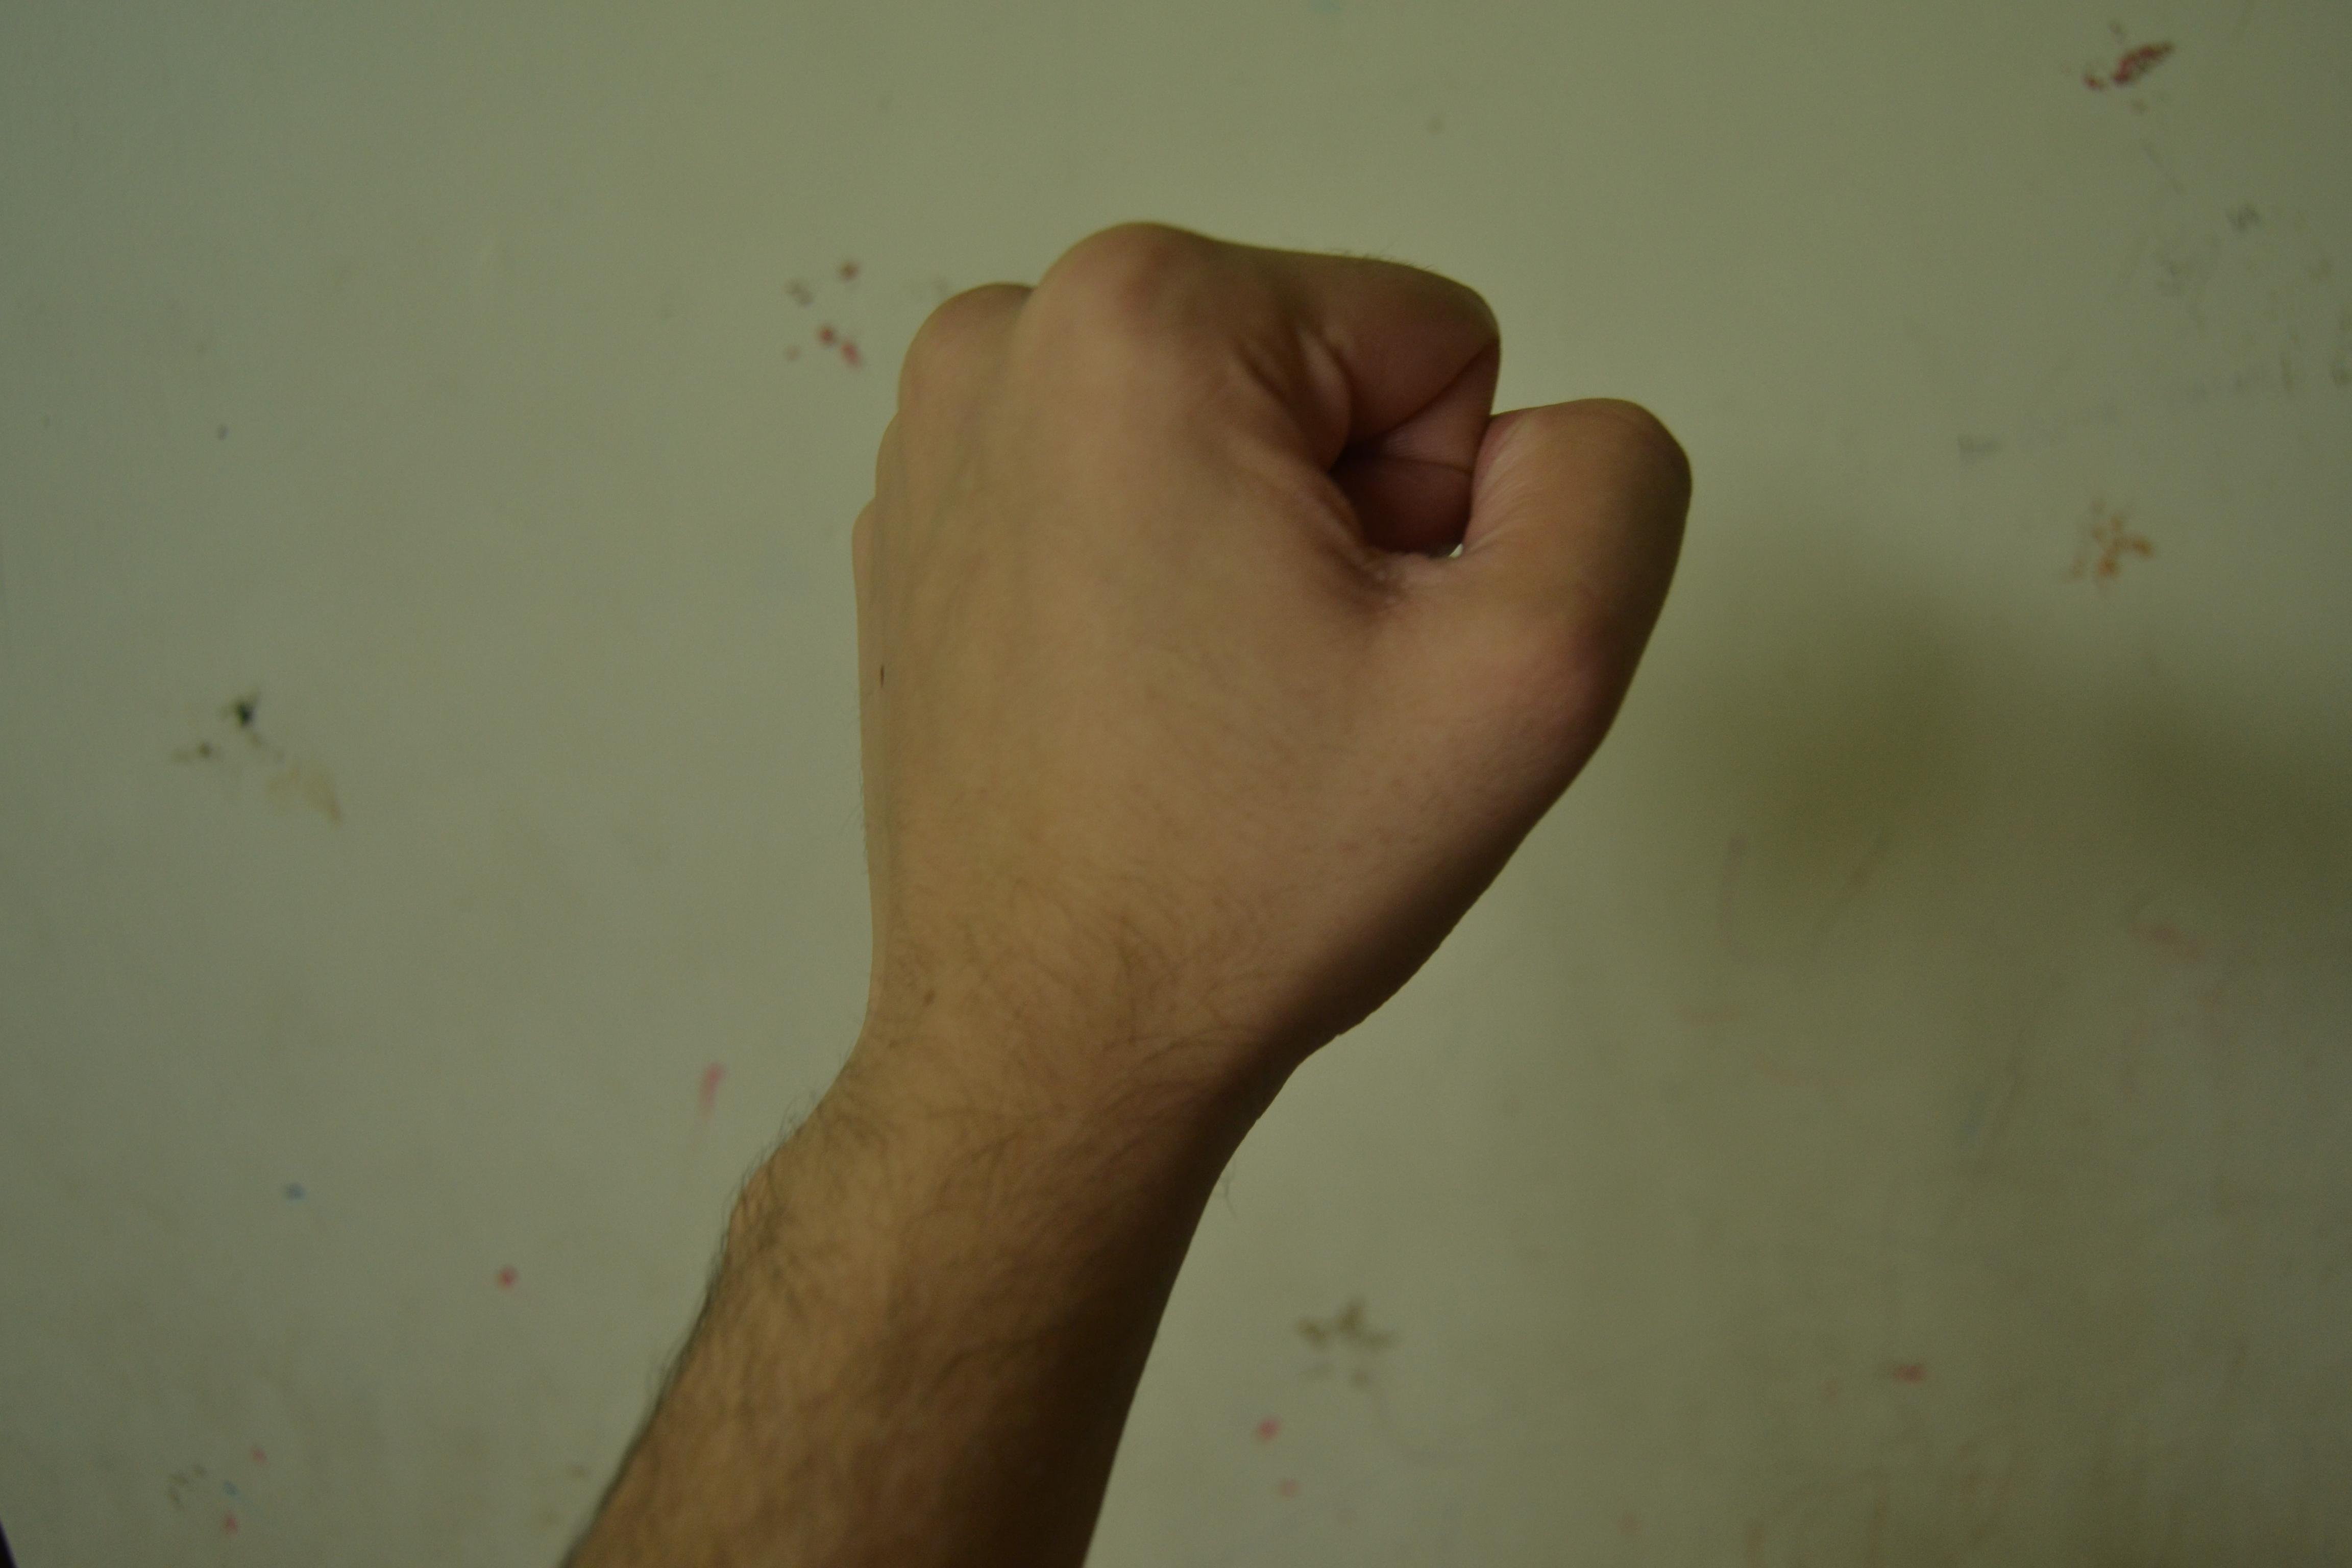click: (759, 189, 1703, 1484)
